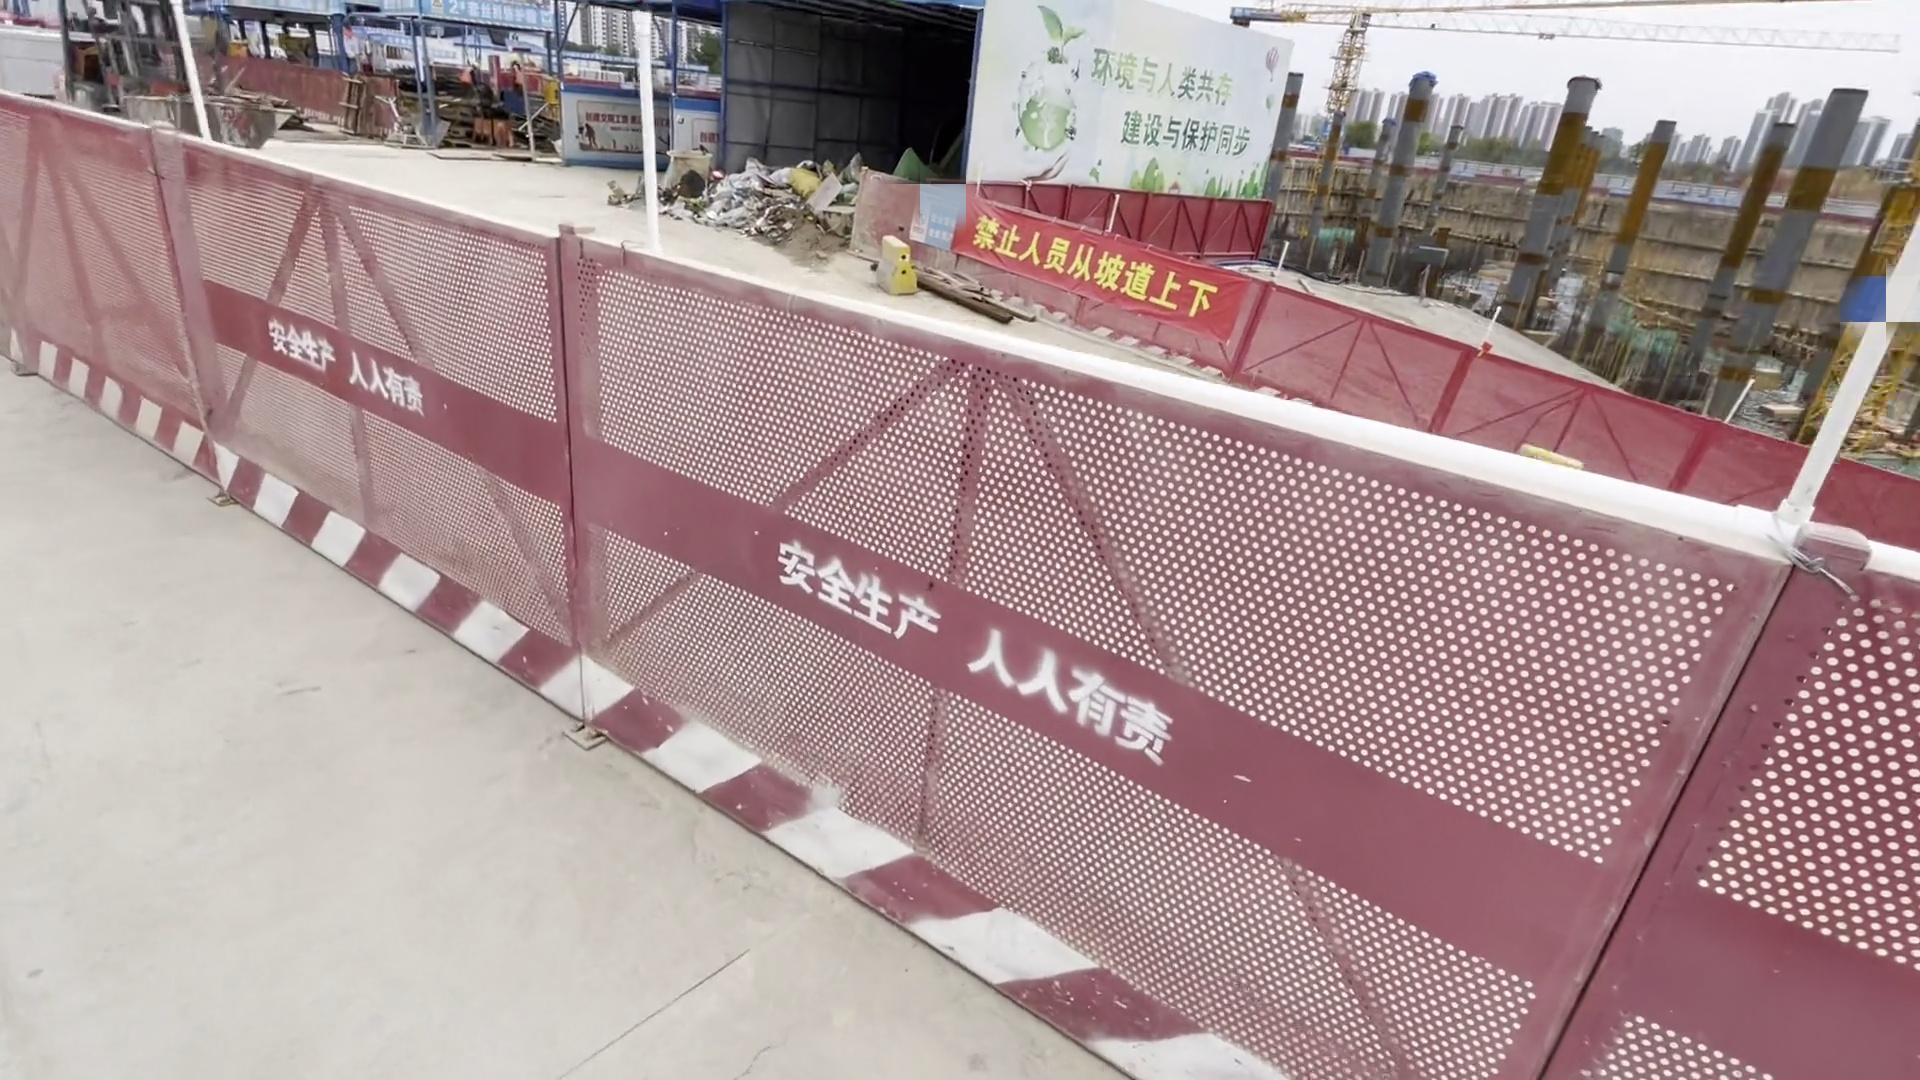fence: (4, 105, 1898, 1048)
slogan: (988, 1, 1267, 189), (967, 203, 1245, 345)
